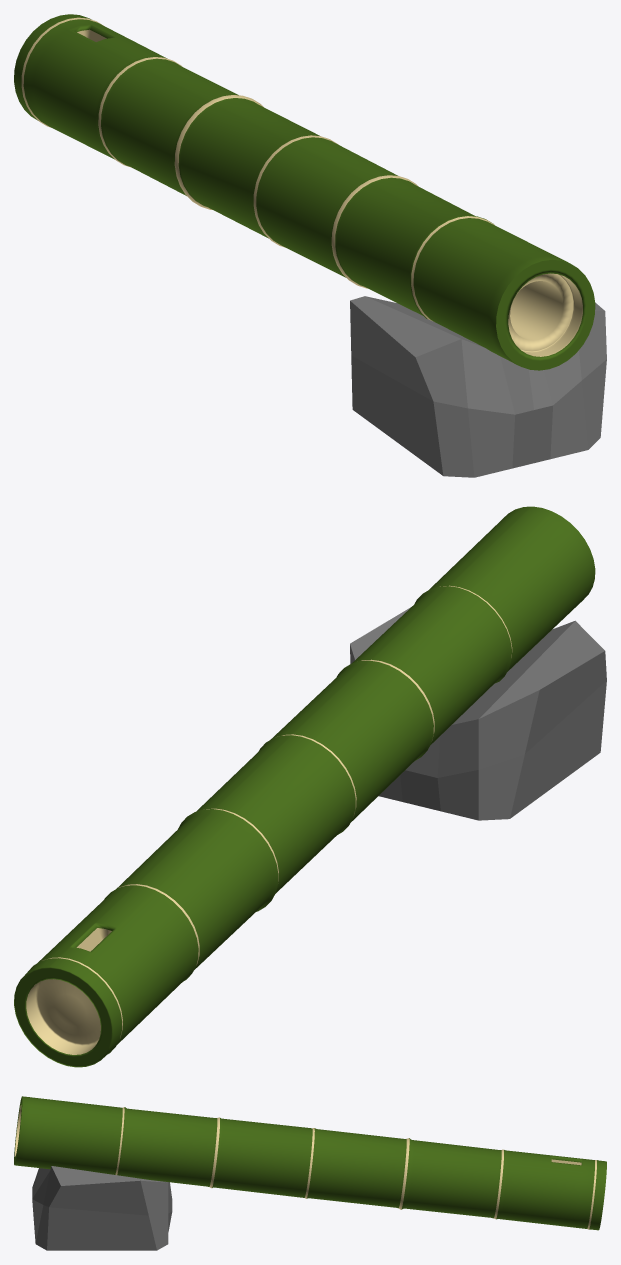
File: meriam bambu.fbx
The picture shows the model from 3 angles, top to bottom: view 1: azimuth 30°, elevation 25°; view 2: azimuth 150°, elevation 25°; view 3: azimuth 270°, elevation 25°; orthographic projection. The views are drawn at different scales.
Visible parts, largest first — view 1: Meriam Bambu, Cube; view 2: Meriam Bambu, Cube; view 3: Meriam Bambu, Cube.
Boxes of the visible parts, box(x1,y1,x2,y2) form: Meriam Bambu: box(14, 14, 595, 370); Cube: box(350, 296, 606, 477); Meriam Bambu: box(14, 506, 595, 1067); Cube: box(350, 607, 606, 820); Meriam Bambu: box(14, 1096, 606, 1230); Cube: box(32, 1166, 172, 1250).
Bounding box in the file's own units: 200 × 212 × 893.
